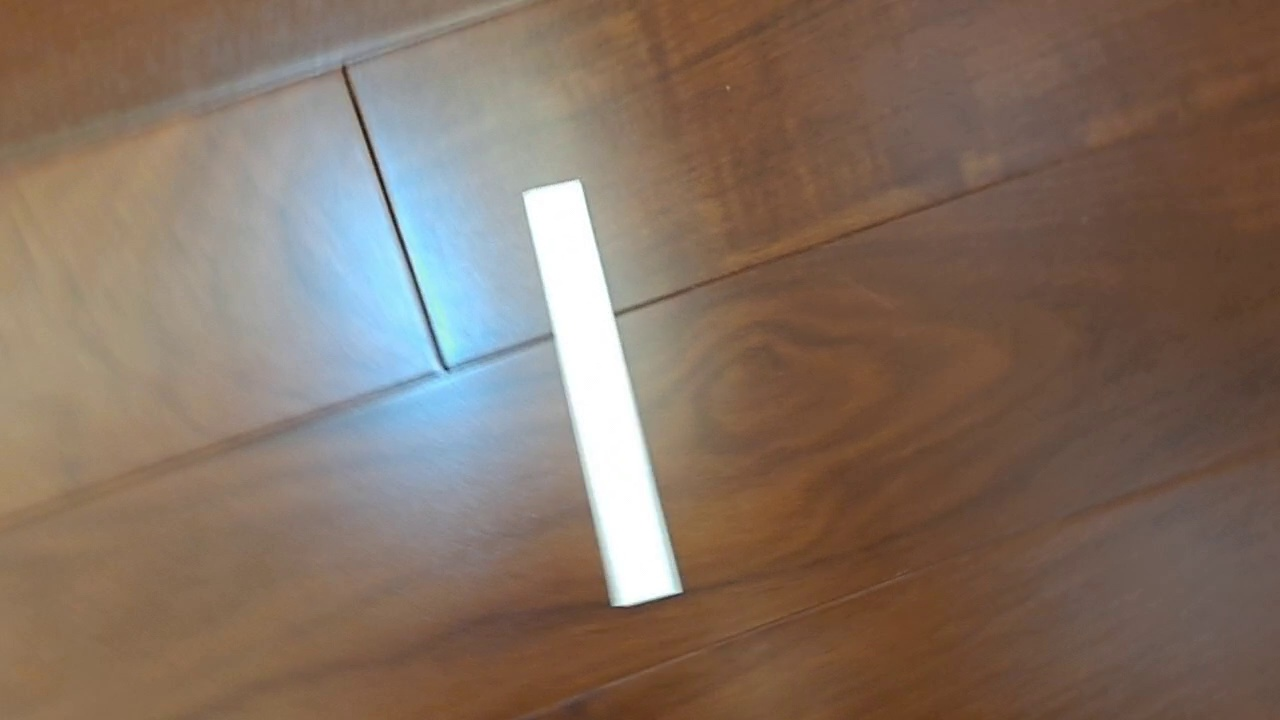ruler: (520, 177, 684, 610)
